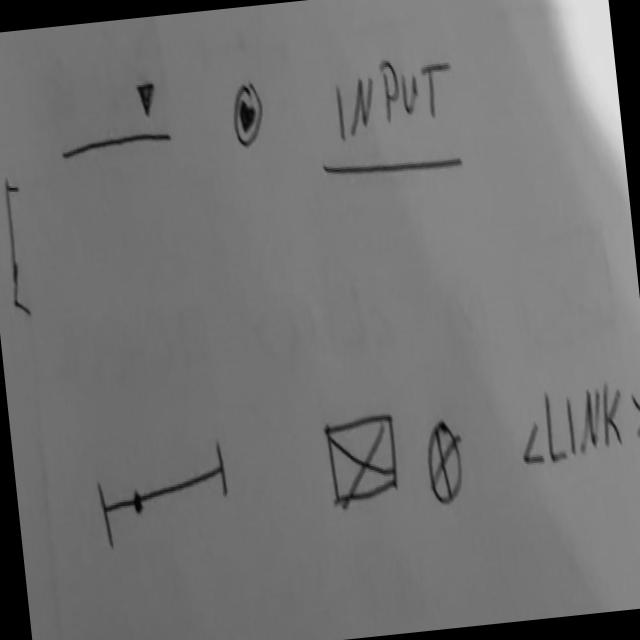icon-button: (228, 75, 270, 154)
image: (322, 409, 405, 512), (422, 417, 470, 511)
input: (311, 51, 467, 188)
link: (513, 370, 640, 471)
select: (53, 74, 177, 165)
slider: (92, 436, 236, 552)
